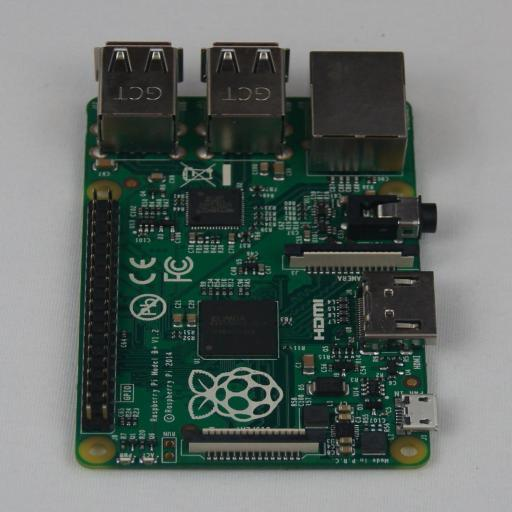Raspberry Pi 1 B-: (76, 41, 437, 470)
